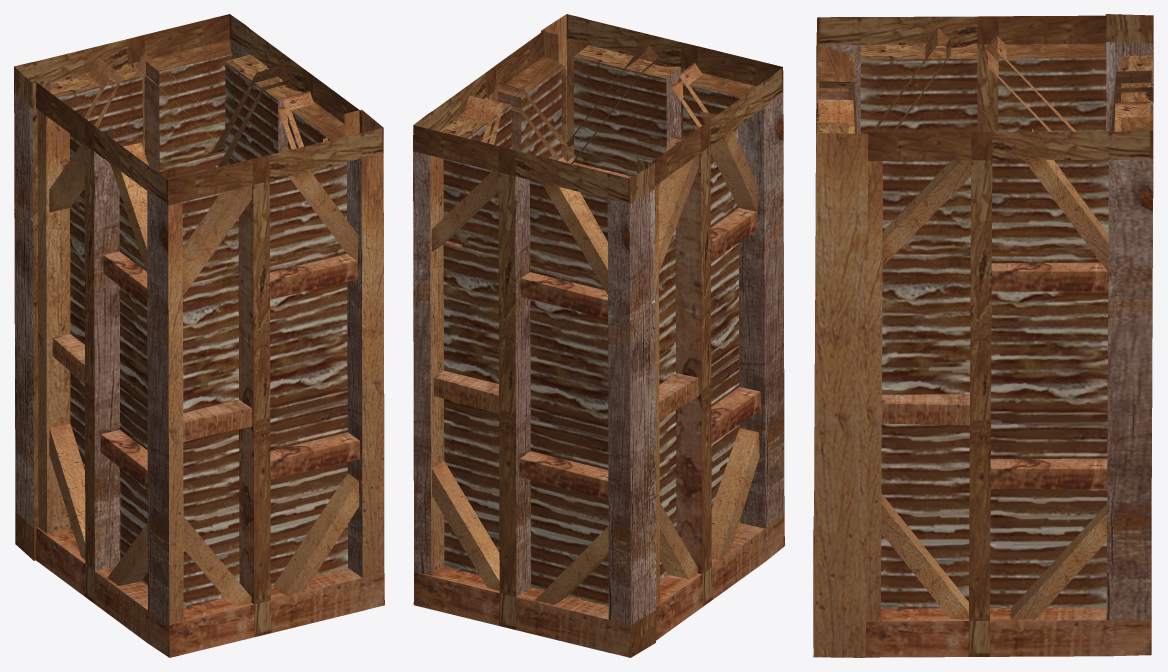
3 views of the same model, side by side, from view 1: azimuth 30°, elevation 25°; view 2: azimuth 150°, elevation 25°; view 3: azimuth 270°, elevation 25° (orthographic). The views are drawn at different scales.
Parts seen in each view (by area): view 1: SP_Cube; view 2: SP_Cube; view 3: SP_Cube.
Boxes of the visible parts, box(x1,y1,x2,y2) form: SP_Cube: box(14, 14, 384, 657); SP_Cube: box(413, 14, 784, 657); SP_Cube: box(813, 14, 1153, 657).
Bounding box in the file's own units: 181 × 375 × 220.
